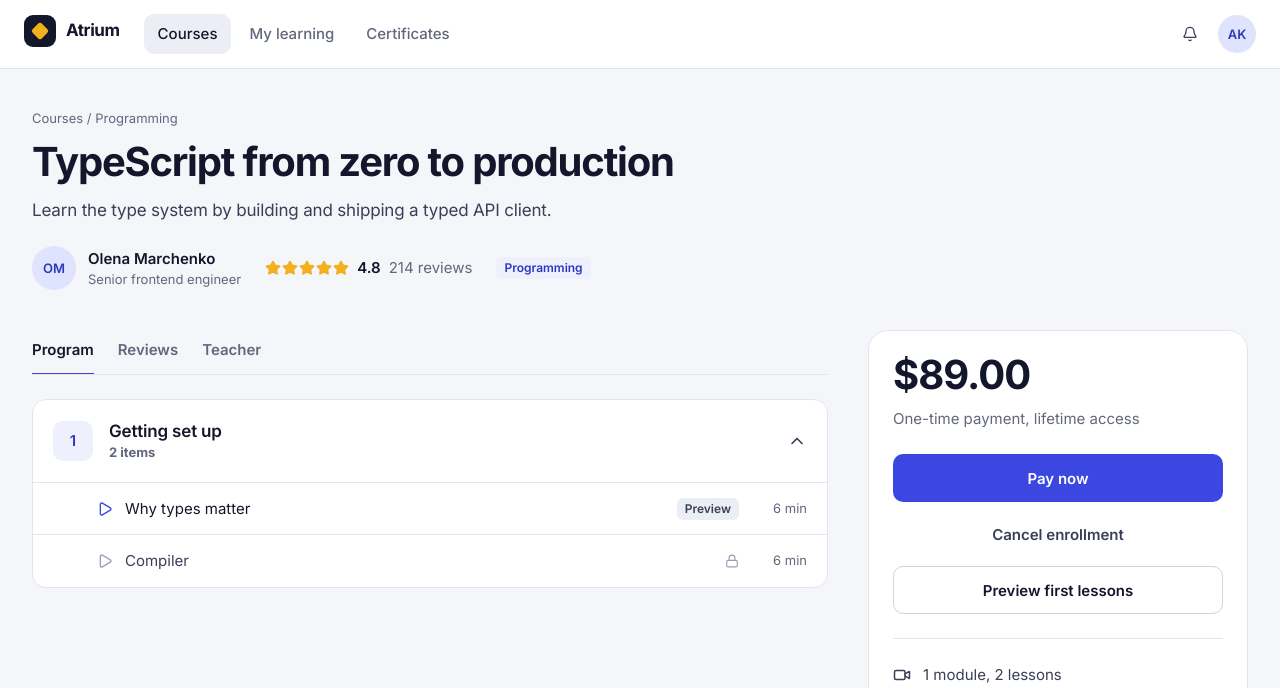
Test: cancelling › asks for confirmation and cancels a pending enrollment
This screenshot has width=1280, height=688.
Click the button "Cancel enrollment". click: x=1058, y=534
box: [893,514,1223,554]
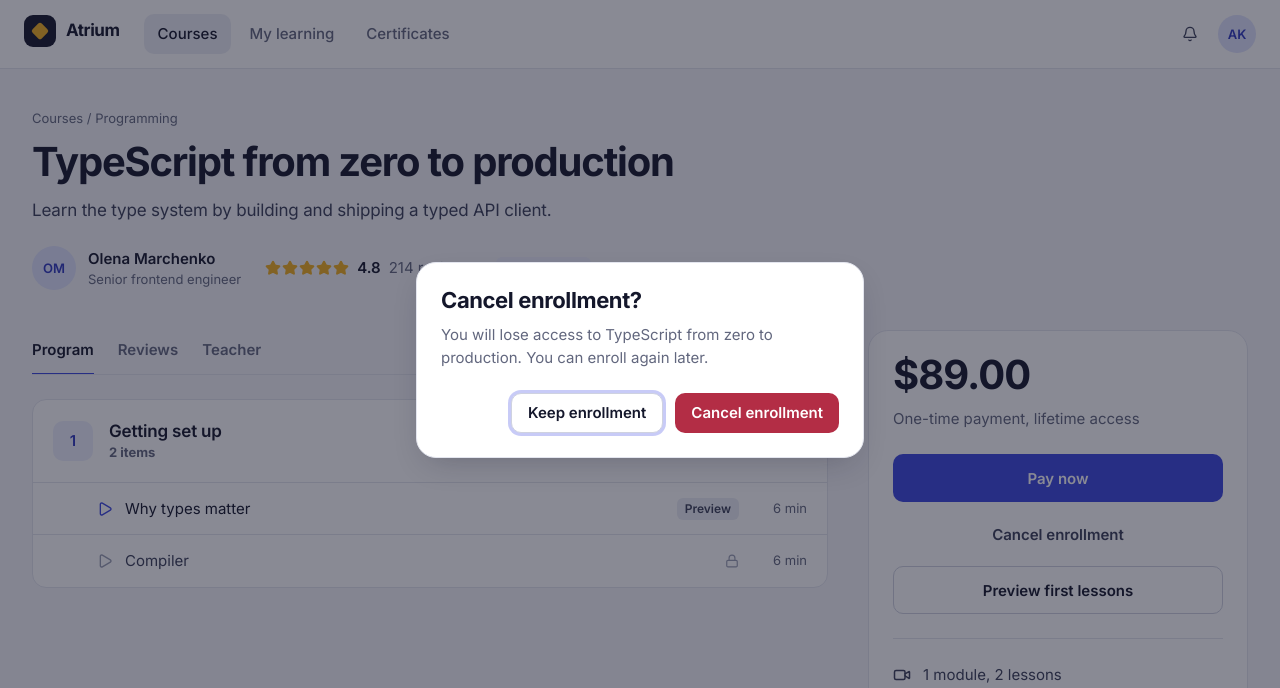
Click the button "Cancel enrollment". click: x=757, y=413
box: [675,393,839,433]
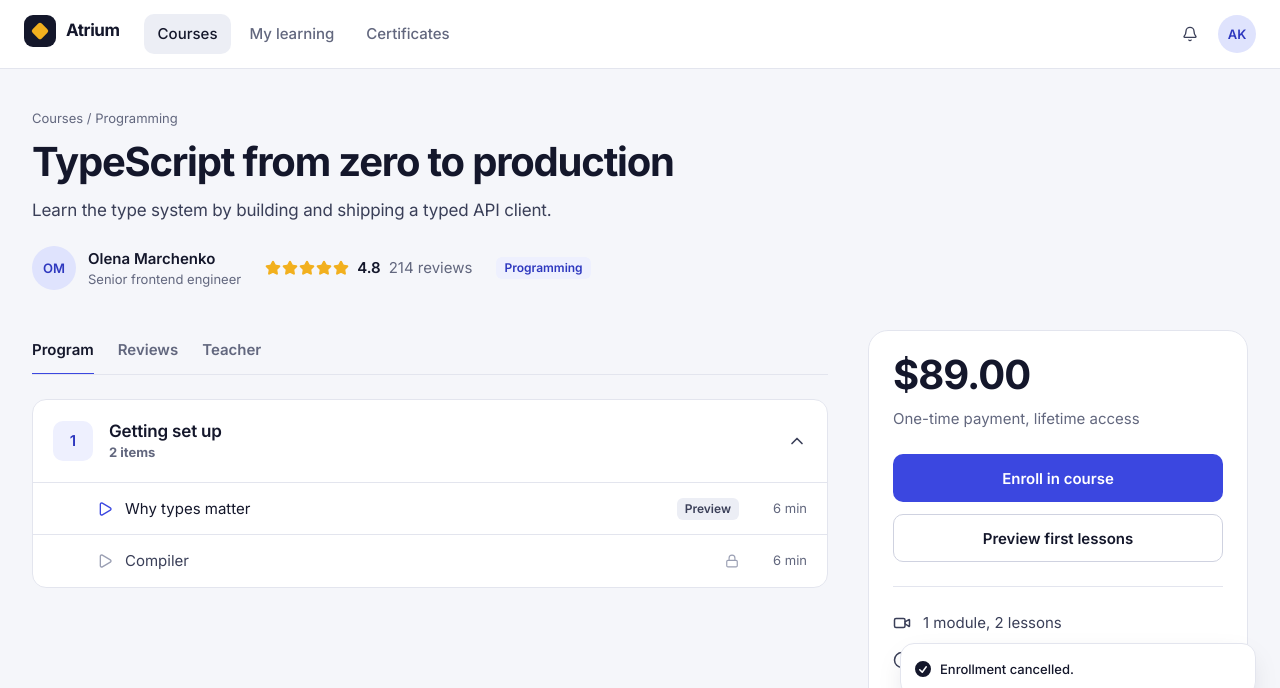
expect the button "Enroll in course" is shown: met, box [893,454,1223,502]
